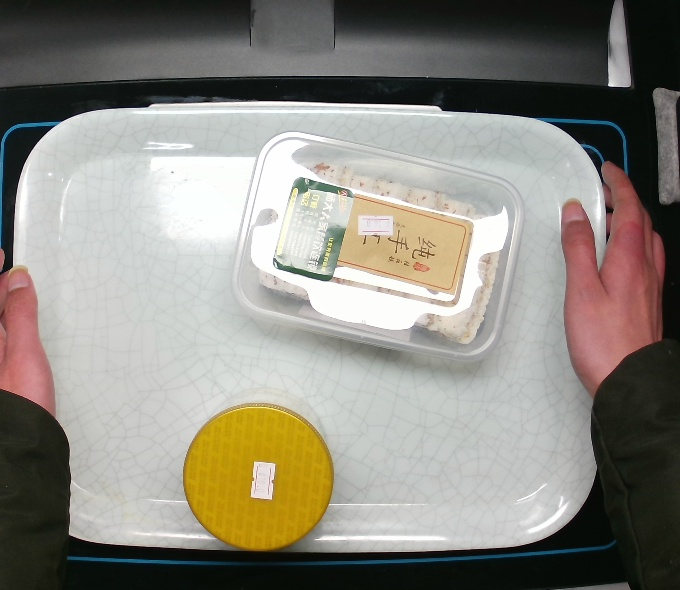wcq-GuiHuaGao: (229, 129, 527, 364)
wcq-MaiYaTang: (182, 400, 335, 552)
